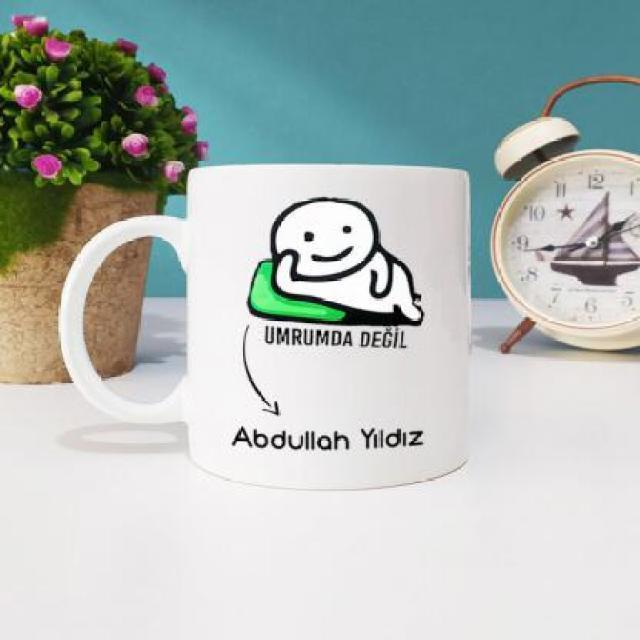taza: (59, 164, 474, 490)
